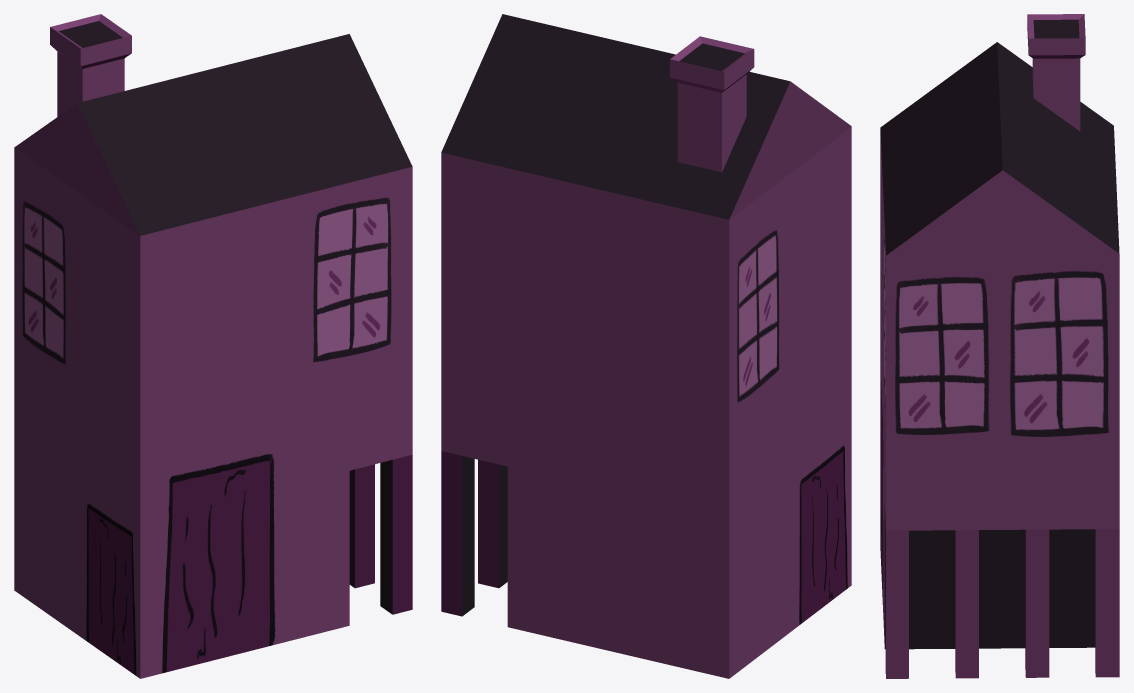
The model's file is House_2.fbx.
3 renders of one model, left to right at view 1: azimuth 30°, elevation 25°; view 2: azimuth 150°, elevation 25°; view 3: azimuth 270°, elevation 25°, orthographic. The views are drawn at different scales.
Visible parts, largest first — view 1: Cube.001; view 2: Cube.001; view 3: Cube.001.
Part boxes in pixels (bbox=[...]): Cube.001: bbox=[14, 14, 412, 678]; Cube.001: bbox=[441, 14, 851, 678]; Cube.001: bbox=[880, 14, 1119, 678].
Bounding box in the file's own units: 517 × 1010 × 402.
